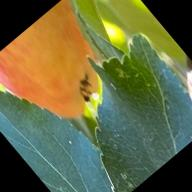Apples: (0, 0, 132, 145)
